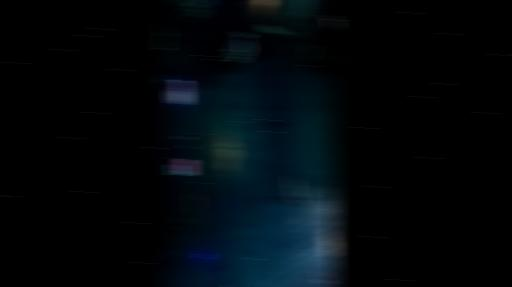Fish: (228, 31, 251, 62), (288, 175, 303, 205), (322, 231, 337, 256), (293, 209, 308, 229), (261, 25, 286, 35), (269, 122, 286, 136), (302, 179, 315, 197), (254, 253, 269, 268), (303, 45, 314, 60), (268, 244, 278, 258), (159, 75, 170, 87), (325, 15, 336, 27), (280, 270, 288, 286), (252, 126, 265, 135), (327, 51, 336, 61), (315, 270, 326, 277), (245, 121, 255, 128), (231, 125, 242, 131), (271, 196, 292, 199), (239, 126, 247, 133), (230, 136, 241, 141), (243, 225, 254, 230), (238, 104, 249, 109), (242, 238, 251, 244), (254, 141, 263, 147), (233, 117, 240, 124), (242, 227, 249, 233), (246, 240, 255, 244), (234, 231, 243, 235), (275, 223, 284, 227), (233, 115, 244, 118)
